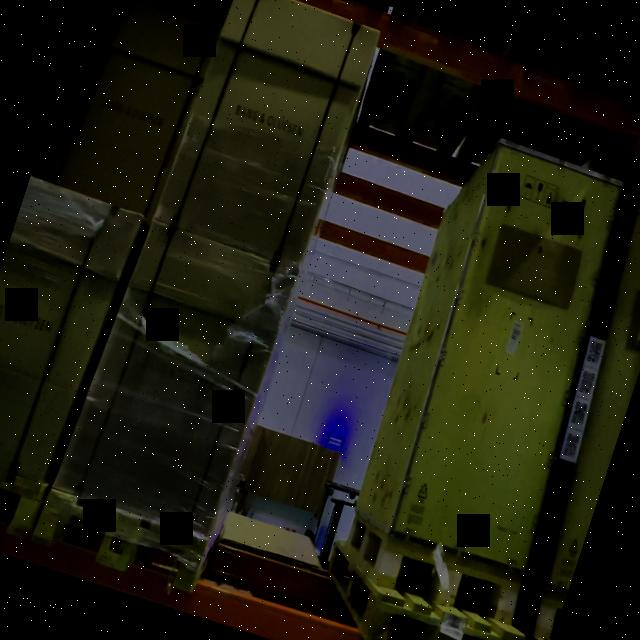box: (385, 150, 622, 570), (71, 230, 292, 528), (163, 0, 372, 268)
